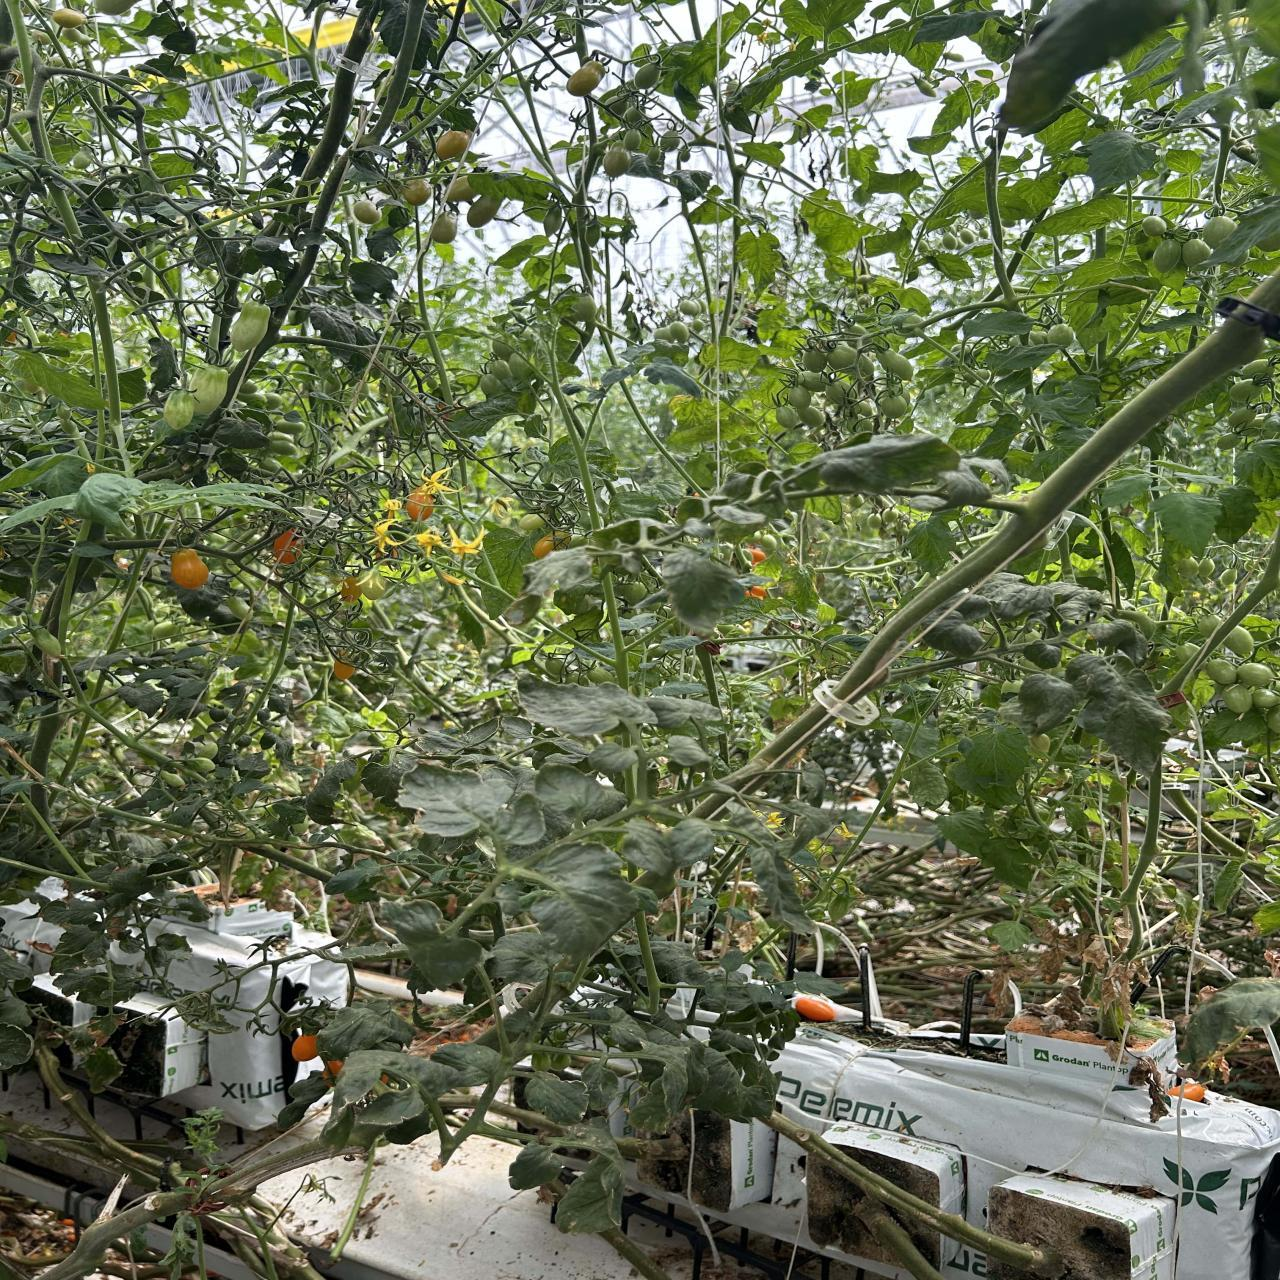Flor: (363, 499, 402, 554), (415, 468, 452, 497), (448, 527, 484, 556), (413, 530, 441, 552)
Hoja: (1082, 130, 1157, 197)
Hoja rugoso: (321, 1049, 472, 1145), (397, 765, 550, 859), (527, 842, 640, 956), (510, 1122, 624, 1234), (1071, 656, 1171, 775), (791, 435, 960, 493), (377, 900, 483, 988), (517, 675, 654, 736), (661, 547, 745, 638), (503, 547, 599, 624), (533, 765, 626, 839), (628, 1042, 694, 1132), (318, 1001, 415, 1060), (750, 845, 812, 933), (1016, 673, 1081, 734), (973, 573, 1054, 621), (488, 931, 563, 982), (55, 966, 141, 1008), (306, 760, 360, 824), (919, 612, 985, 662), (413, 719, 499, 756), (360, 751, 417, 808), (525, 1073, 588, 1123), (429, 1043, 501, 1085), (645, 695, 722, 733), (1089, 619, 1148, 662), (509, 1143, 563, 1190), (311, 940, 406, 965), (75, 1047, 122, 1094), (907, 761, 948, 810), (0, 1023, 33, 1071), (1023, 641, 1062, 668)
Pedunculo: (839, 273, 1280, 701), (301, 0, 380, 186), (280, 159, 346, 322), (360, 0, 425, 145), (88, 277, 130, 474), (5, 0, 53, 163), (745, 702, 824, 775), (49, 784, 164, 825), (239, 844, 332, 883), (636, 912, 661, 1013), (213, 837, 244, 910), (49, 181, 81, 245), (625, 862, 639, 883)
Tomate: (824, 343, 874, 380), (792, 993, 836, 1022), (876, 349, 914, 380), (1201, 216, 1237, 247), (1152, 239, 1182, 273), (602, 145, 633, 177), (1221, 683, 1252, 714), (824, 380, 858, 407), (1204, 658, 1235, 686), (1237, 663, 1274, 687), (1182, 238, 1212, 266), (1226, 626, 1254, 655), (655, 321, 689, 345), (879, 392, 908, 418), (508, 353, 533, 382), (292, 1035, 319, 1062), (1230, 380, 1259, 404), (1228, 408, 1255, 433), (797, 369, 826, 392), (478, 373, 503, 399), (1048, 324, 1076, 346), (1197, 614, 1221, 639), (1173, 641, 1199, 665), (1253, 688, 1280, 710), (1240, 359, 1269, 379), (798, 407, 824, 429), (1141, 216, 1167, 237), (776, 406, 799, 429), (787, 387, 811, 409), (940, 230, 965, 252), (1177, 557, 1199, 580), (621, 129, 644, 151), (660, 129, 681, 152), (1217, 434, 1244, 451), (1216, 567, 1238, 588), (492, 338, 513, 360), (1198, 558, 1216, 583), (624, 105, 645, 125), (491, 360, 512, 380), (678, 299, 701, 315), (646, 144, 663, 165), (802, 352, 819, 372), (326, 1060, 343, 1076), (960, 230, 978, 244)
Tomate Rugoso: (231, 300, 270, 352), (189, 366, 229, 415), (170, 549, 209, 590), (566, 61, 605, 96), (163, 390, 195, 430), (467, 195, 502, 229), (435, 130, 471, 162), (271, 529, 300, 565), (444, 176, 478, 203), (400, 178, 431, 206), (359, 567, 386, 600), (35, 629, 63, 660), (350, 198, 382, 225), (430, 212, 457, 244), (268, 433, 301, 457), (404, 492, 433, 520), (52, 7, 86, 28), (634, 62, 660, 89), (69, 148, 96, 171), (339, 577, 361, 601), (246, 392, 279, 408), (274, 417, 304, 434), (333, 659, 355, 680), (803, 352, 826, 372), (159, 770, 185, 787), (190, 756, 215, 772), (198, 741, 218, 760)
